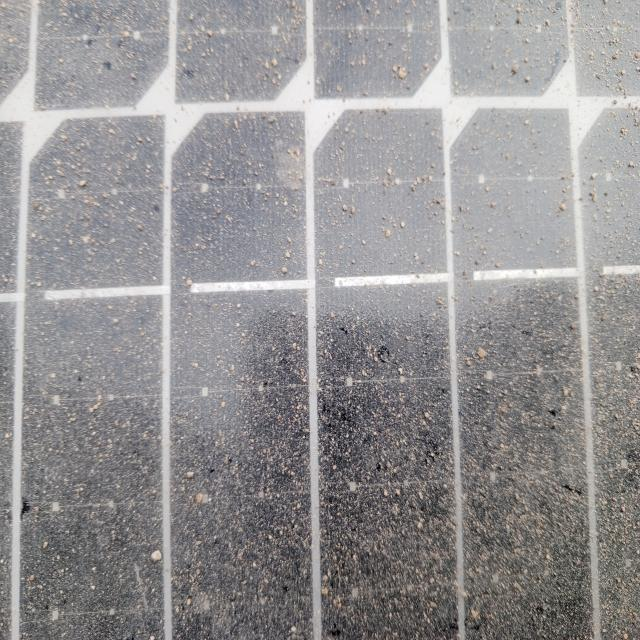Anomaly Solar Panel: (3, 6, 636, 638)
Surface Contaminant: (7, 12, 629, 632)
